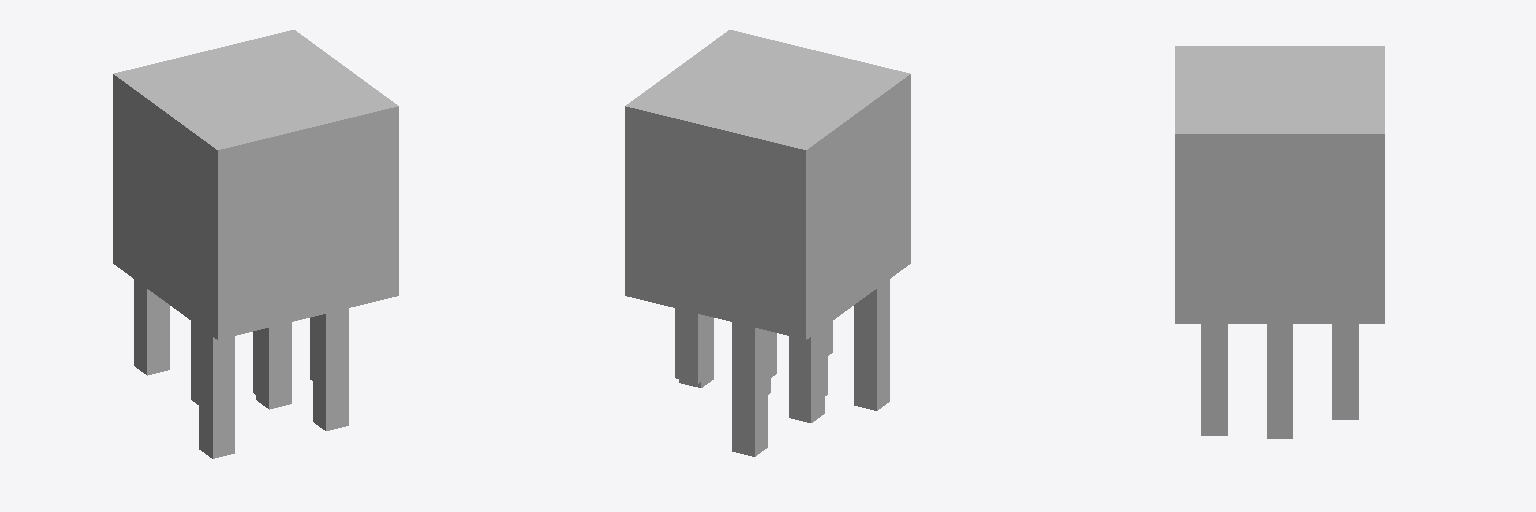
File: ghast.obj
The picture shows the model from 3 angles: view 1: azimuth 30°, elevation 25°; view 2: azimuth 150°, elevation 25°; view 3: azimuth 270°, elevation 25°; orthographic projection.
Parts seen in each view (by area): view 1: body, tentacle8, tentacle7, tentacle2, tentacle9; view 2: body, tentacle3, tentacle8, tentacle2, tentacle1; view 3: body, tentacle7, tentacle4, tentacle1, tentacle3.
Part boxes in pixels (bbox=[...]): body: bbox=[113, 30, 398, 339]; tentacle8: bbox=[199, 327, 234, 458]; tentacle7: bbox=[313, 308, 348, 430]; tentacle2: bbox=[134, 279, 169, 375]; tentacle9: bbox=[256, 322, 291, 409]; body: bbox=[625, 30, 910, 339]; tentacle3: bbox=[732, 322, 767, 456]; tentacle8: bbox=[854, 279, 889, 410]; tentacle2: bbox=[789, 327, 824, 422]; tentacle1: bbox=[675, 308, 710, 383]; body: bbox=[1175, 46, 1384, 323]; tentacle7: bbox=[1201, 324, 1227, 435]; tentacle4: bbox=[1267, 324, 1292, 438]; tentacle1: bbox=[1332, 324, 1358, 388]; tentacle3: bbox=[1332, 389, 1358, 419].
Bounding box in the file's own units: 1 × 1.75 × 1.